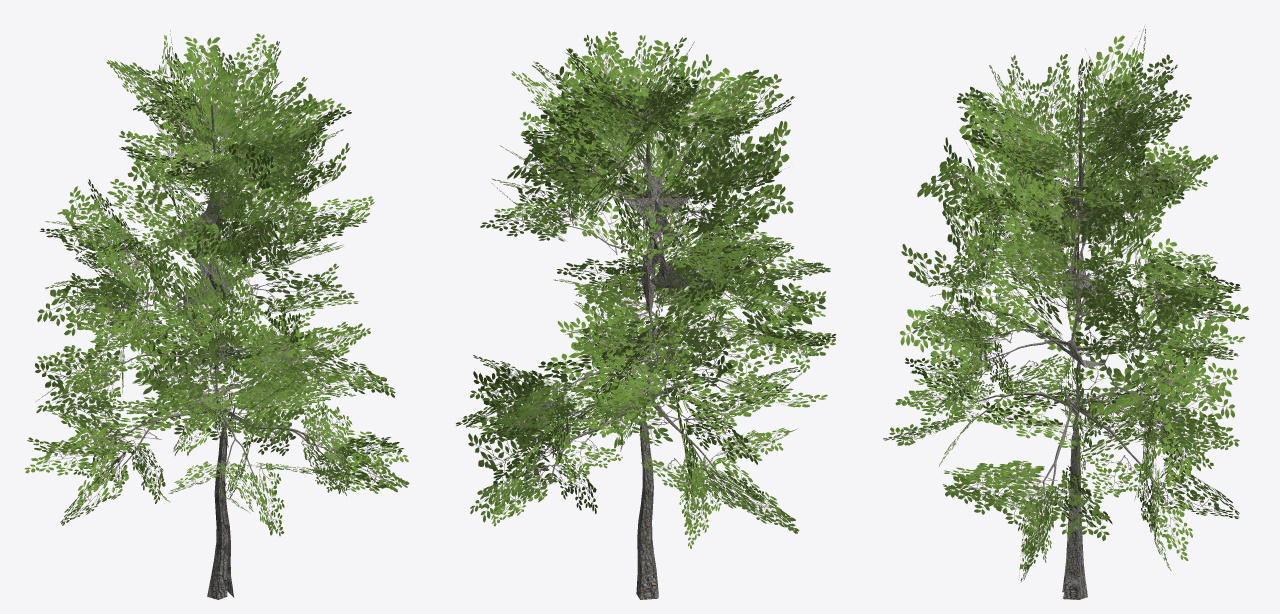
File: t_tree.glb
The picture shows the model from 3 angles, left to right: view 1: azimuth 30°, elevation 25°; view 2: azimuth 150°, elevation 25°; view 3: azimuth 270°, elevation 25°; orthographic projection. The views are drawn at different scales.
Size of the model in its own units: 21.66 by 33.26 by 21.35.
Materials: 2 (2 with a texture image).
